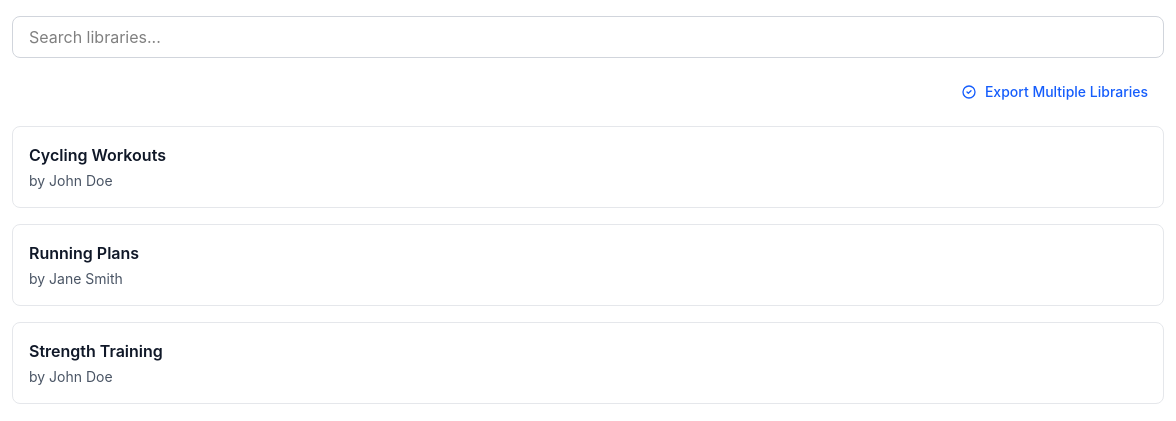
Test: LibraryList › Search Functionality › should show empty state when no matches found
Check: the heading "Cycling Workouts" is shown, box top-left (29, 145), bottom-right (166, 165)
Step 1. Type "NonexistentLibrary" into the field with placeholder "Search libraries..." → (588, 37), box top-left (12, 16), bottom-right (1164, 58)
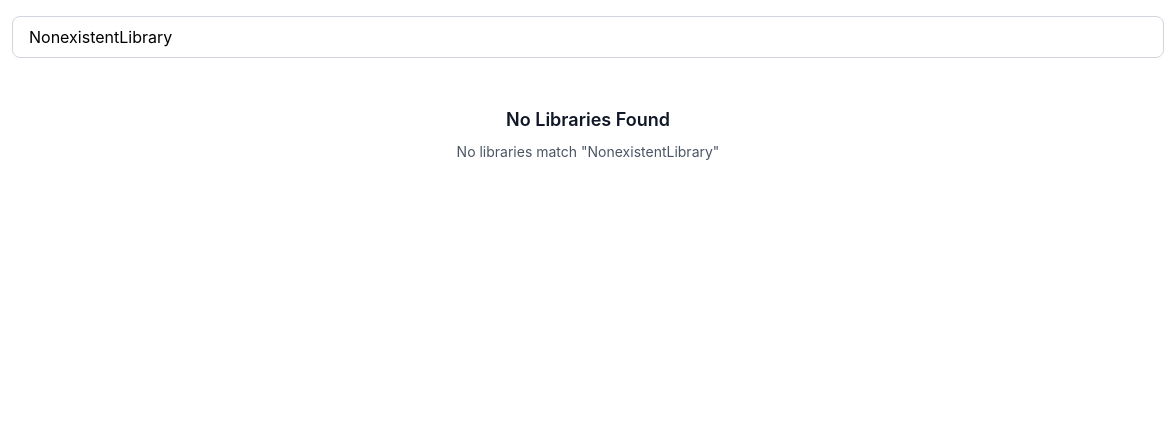
Check: the heading "No Libraries Found" is shown, box top-left (506, 106), bottom-right (670, 134)
